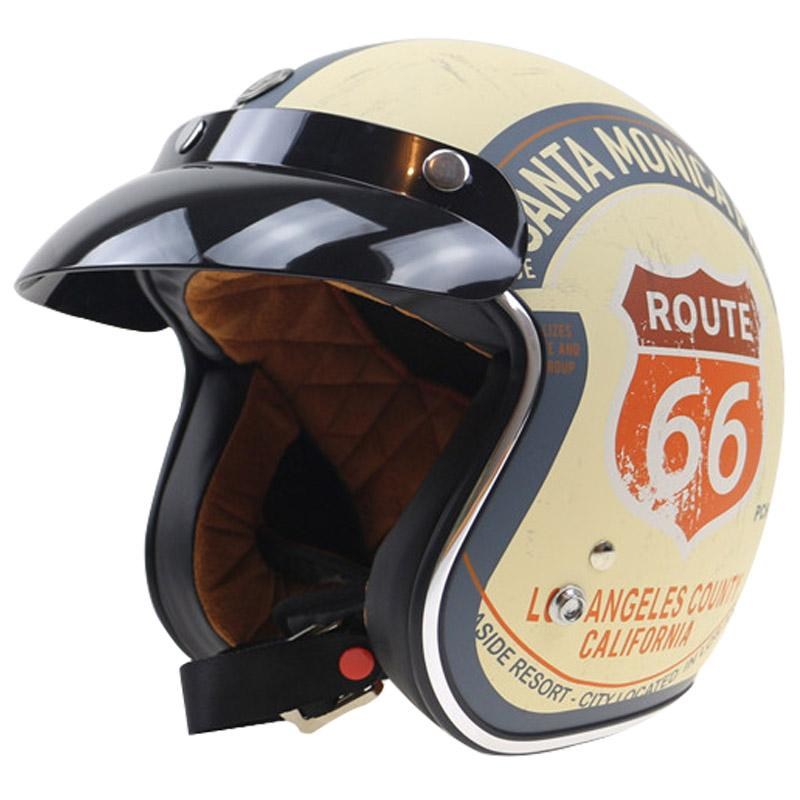with_helmet: (13, 37, 788, 762)
